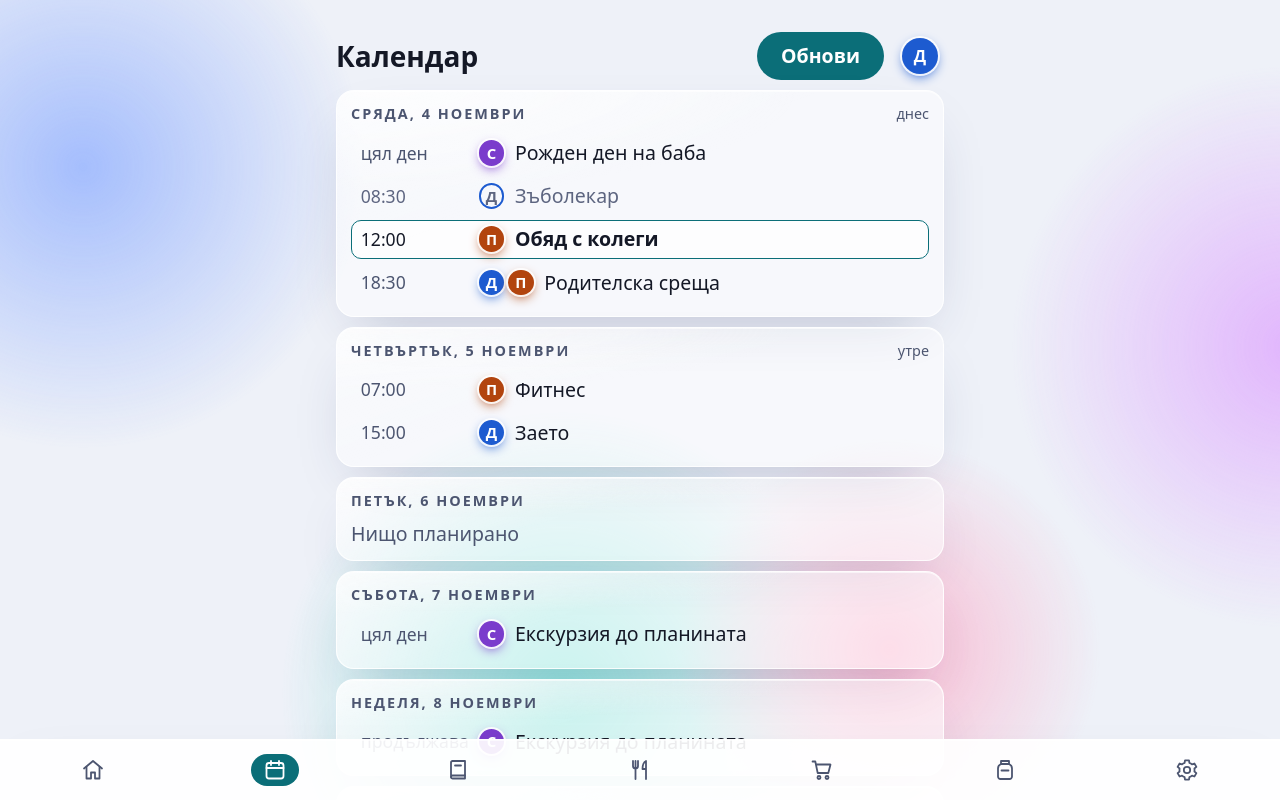
Test: CalendarScreen › „Обнови“ праща POST /api/sync/calendar и показва резултата
The image size is (1280, 800).
Click the button "Обнови". click: (820, 56)
box: [757, 32, 884, 80]
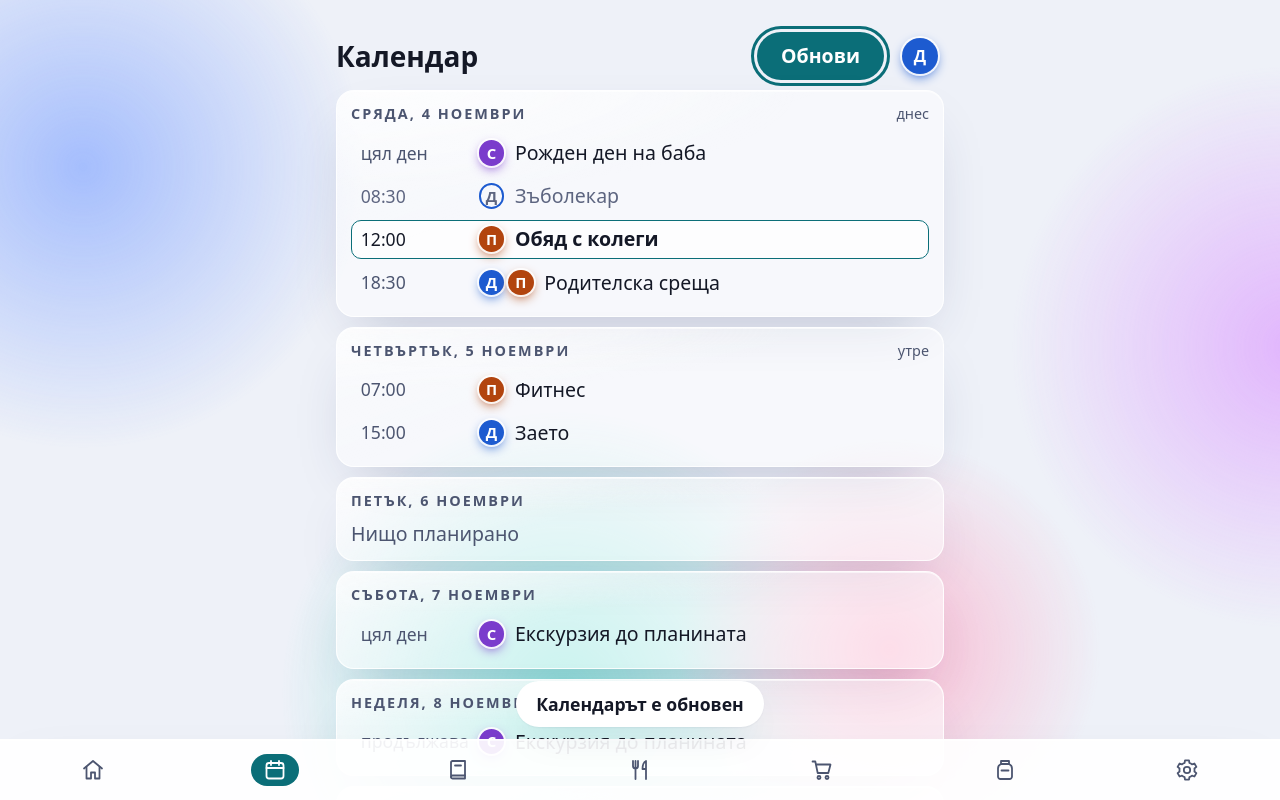
Expected: the text "Календарът е обновен" is shown, [536, 693, 744, 716]
